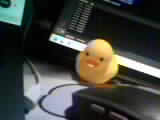duck: (73, 35, 111, 78)
